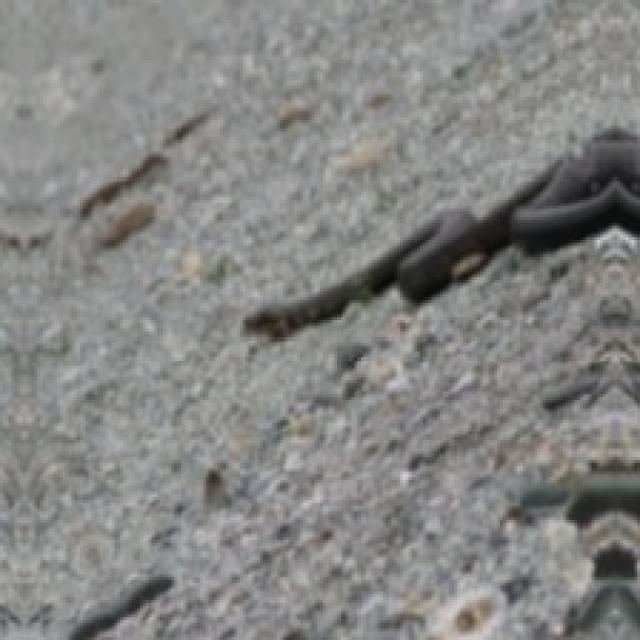king cobra: (243, 129, 637, 337), (246, 129, 637, 337)
